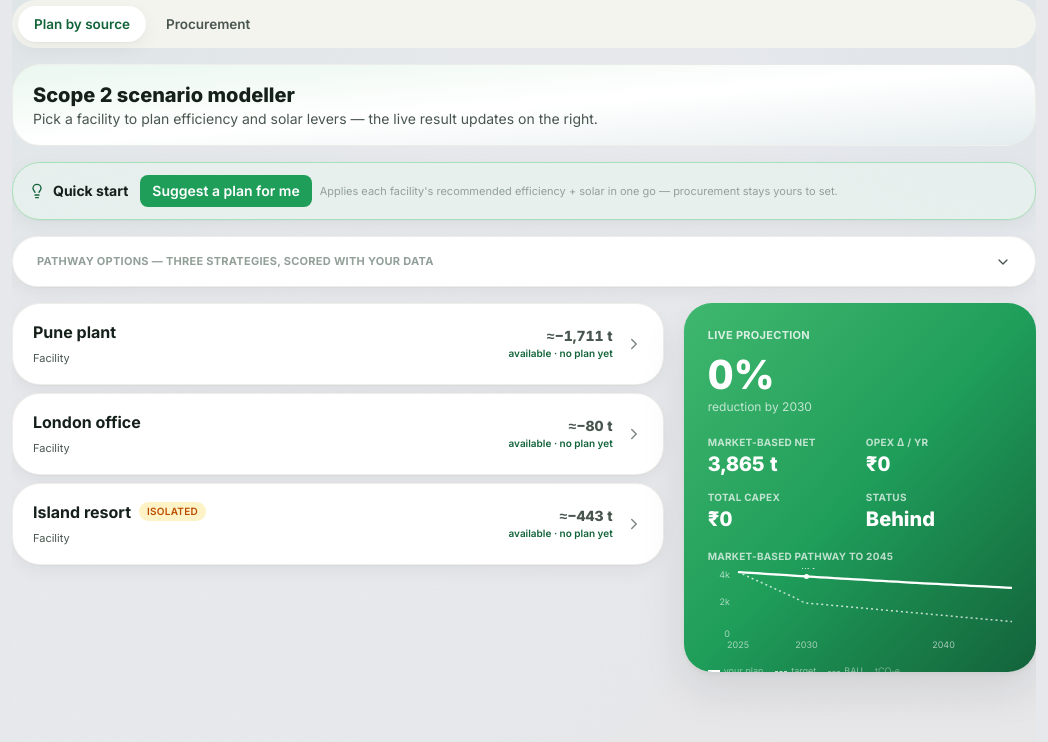
Test: Scope 2 builder — Quick start › suggest-for-me plans every facility in one click
Click the button "Suggest a plan for me". click: (226, 191)
box: [140,175,312,207]
(page scrolled)
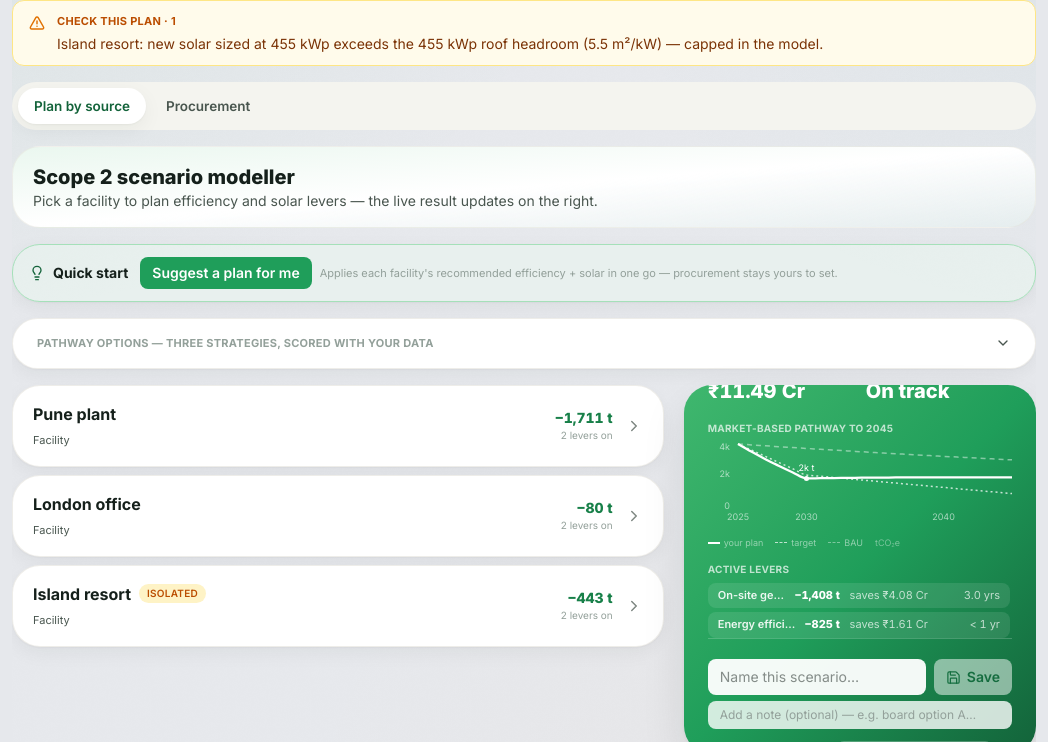
Expected: the text "Active levers" is shown, [708,562,789,574]
Expected: the button "no plan yet" is gone
